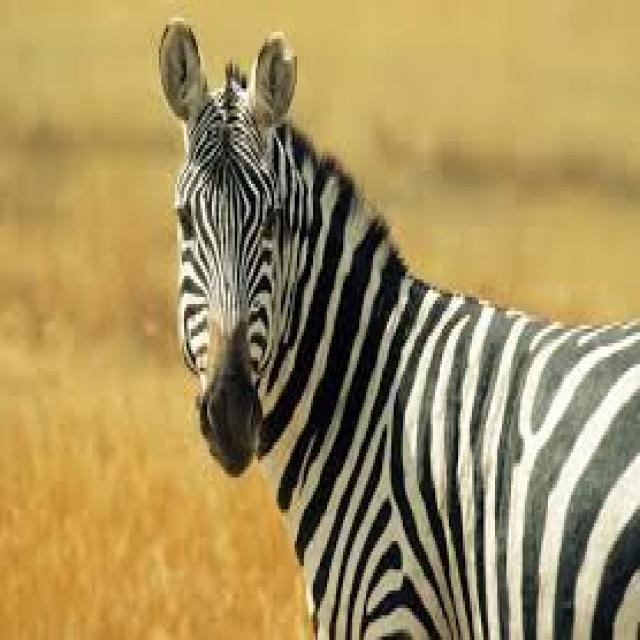Zebra: (159, 18, 640, 636)
